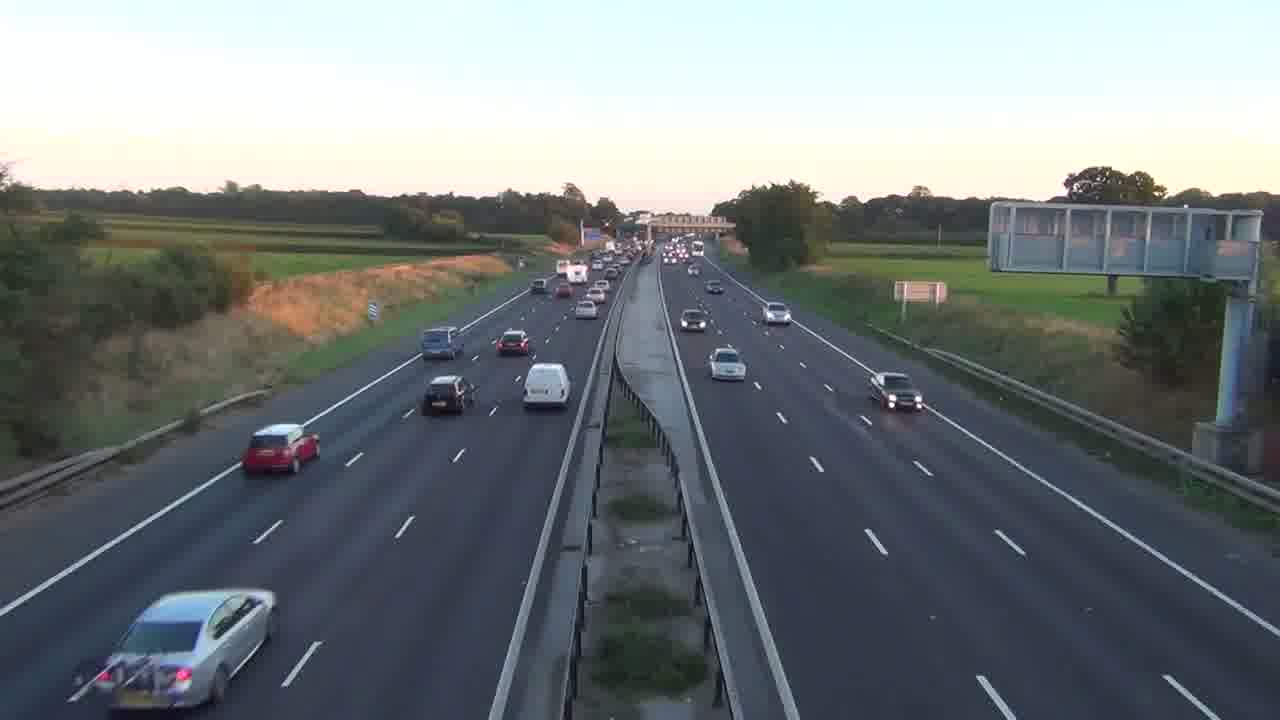car: (95, 588, 277, 711), (241, 422, 320, 476), (866, 370, 925, 412), (421, 374, 467, 416), (708, 346, 748, 382), (496, 329, 530, 356), (763, 301, 791, 328), (679, 307, 709, 332), (574, 298, 597, 317), (705, 280, 724, 294)
truck: (421, 374, 467, 416)
